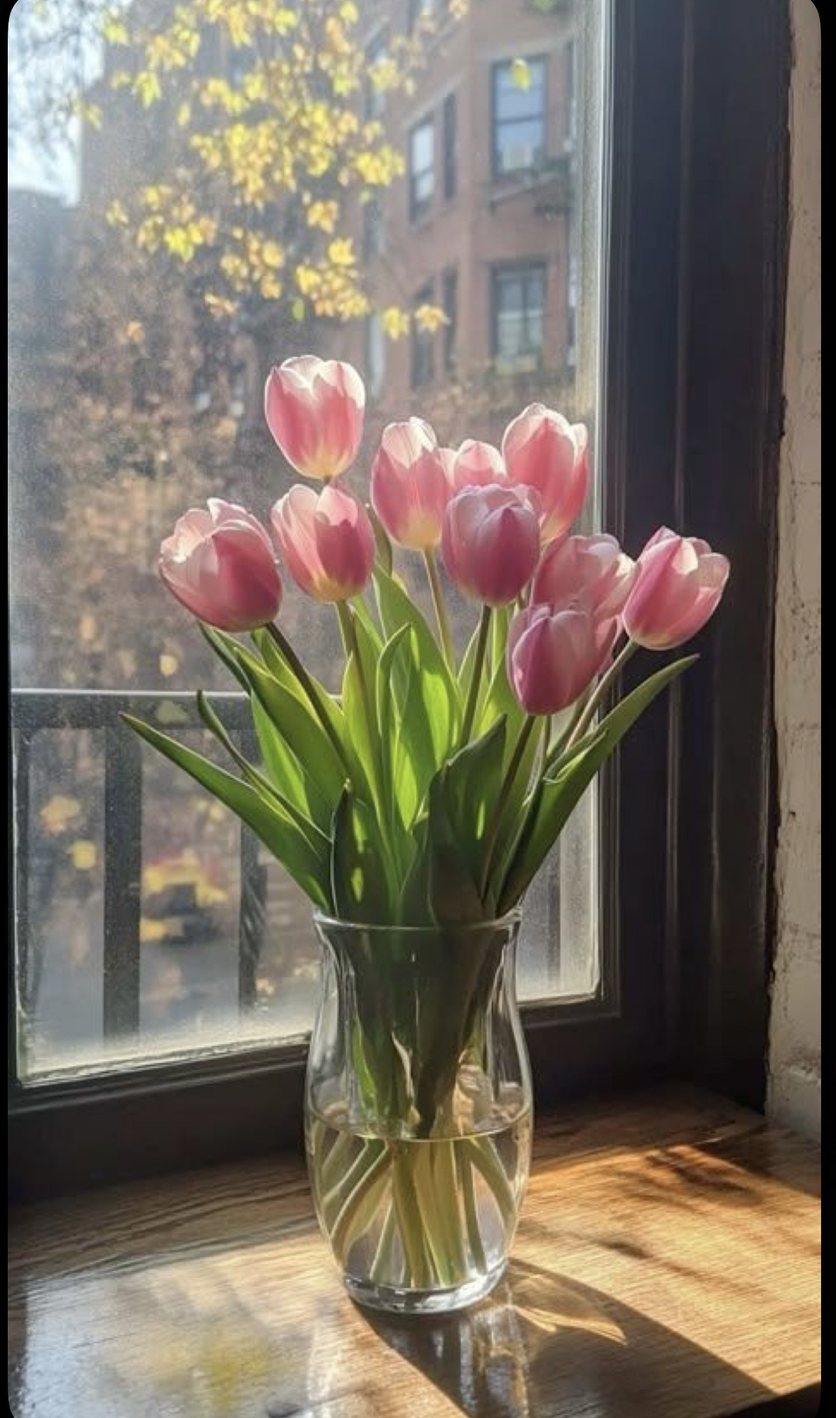tulip: (149, 491, 286, 638), (613, 516, 739, 665), (258, 351, 373, 496), (434, 469, 547, 613), (496, 394, 596, 551), (498, 595, 621, 719), (265, 477, 380, 607), (495, 522, 646, 614), (368, 413, 453, 568), (446, 437, 519, 506)
